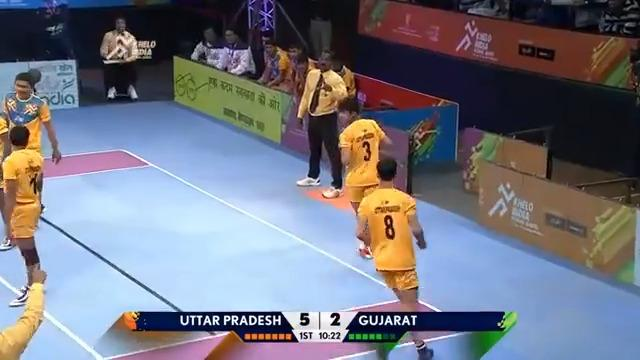Player: (353, 156, 437, 357), (0, 67, 62, 250), (1, 123, 47, 306), (327, 105, 375, 202)
referee: (295, 48, 348, 198), (99, 16, 139, 101)
